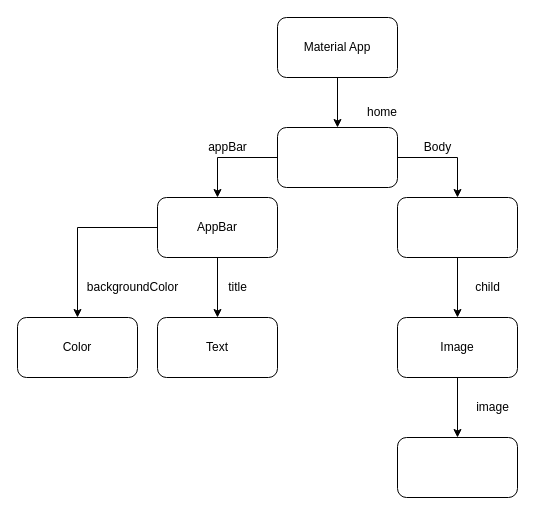
The diagram is 540 pixels wide and 515 high, and some of its shapes have lost their labels. The centre of each missing label's shape, as x and y in pixels:
"AssetImage" belongs at point (457, 467).
"Center" belongs at point (457, 227).
"Scaffold" belongs at point (337, 157).
